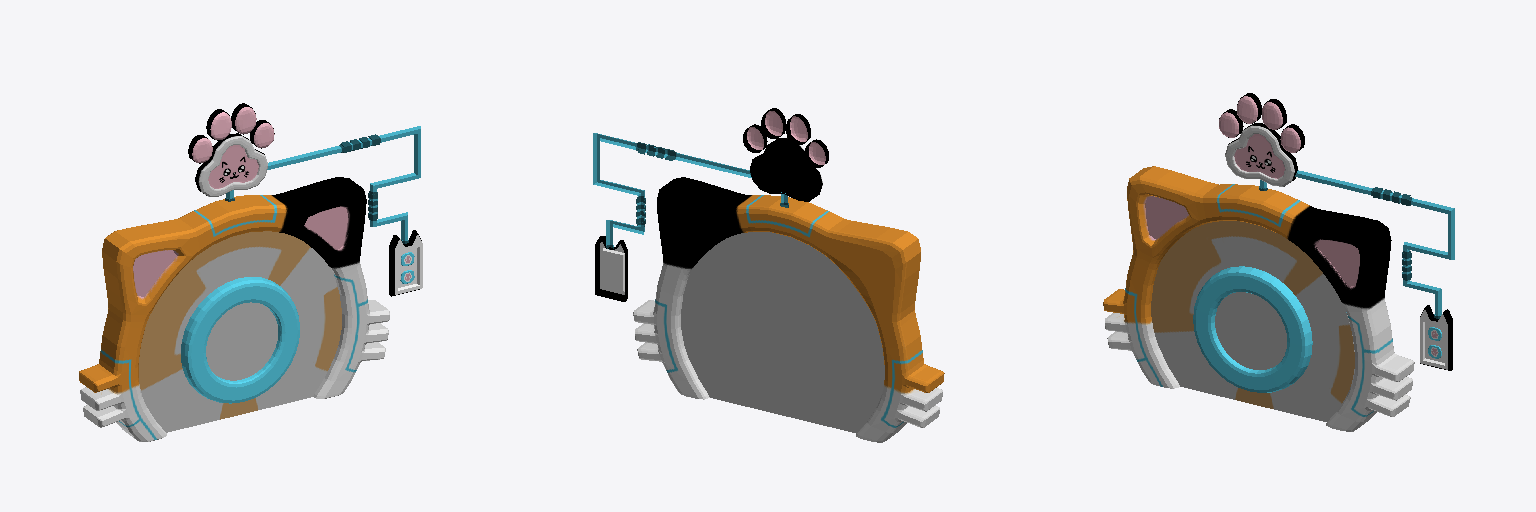
3 renders of one model, left to right at view 1: azimuth 30°, elevation 25°; view 2: azimuth 150°, elevation 25°; view 3: azimuth 330°, elevation 25°, orthographic.
Visible parts, largest first — view 1: Mesh; view 2: Mesh; view 3: Mesh.
Part boxes in pixels (left/top/right/bottom): Mesh: left=79, top=103, right=422, bottom=441; Mesh: left=593, top=108, right=944, bottom=442; Mesh: left=1103, top=93, right=1454, bottom=431.
Size of the model in its own units: 3.29 by 2.81 by 0.332.
Materials: 1 (1 with a texture image).